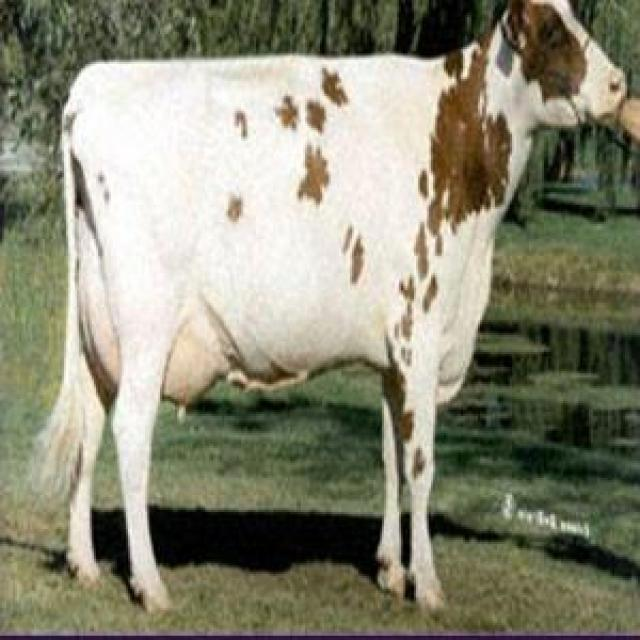cow: (34, 0, 625, 611)
